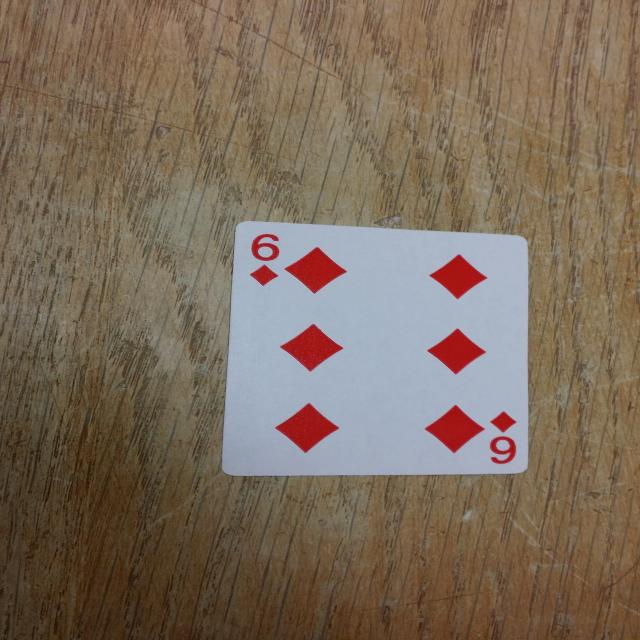6d: (477, 405, 538, 476), (237, 229, 288, 289)
